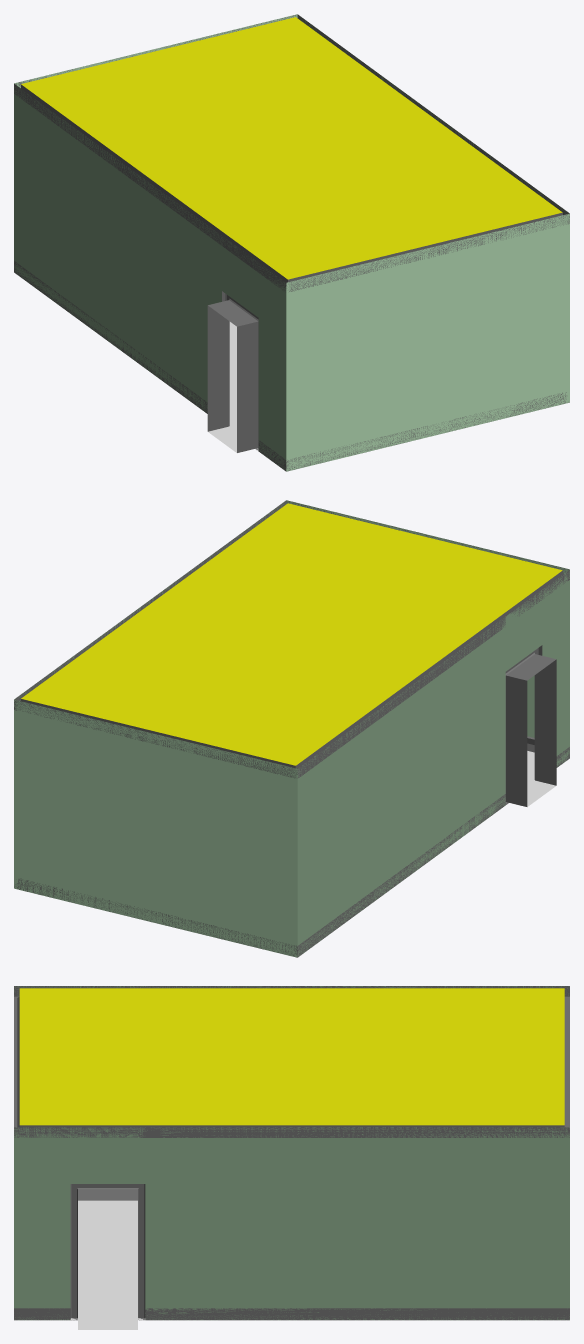
The model's file is DinningRoom.fbx.
3 views of the same model, one above another, from view 1: azimuth 30°, elevation 25°; view 2: azimuth 150°, elevation 25°; view 3: azimuth 270°, elevation 25° (orthographic). The views are drawn at different scales.
Parts seen in each view (by area): view 1: Dinningroom; view 2: Dinningroom; view 3: Dinningroom.
Part boxes in pixels (bbox=[...]): Dinningroom: bbox=[14, 14, 569, 471]; Dinningroom: bbox=[14, 500, 569, 957]; Dinningroom: bbox=[14, 986, 569, 1329].
Size of the model in its own units: 543 by 306 by 799.
